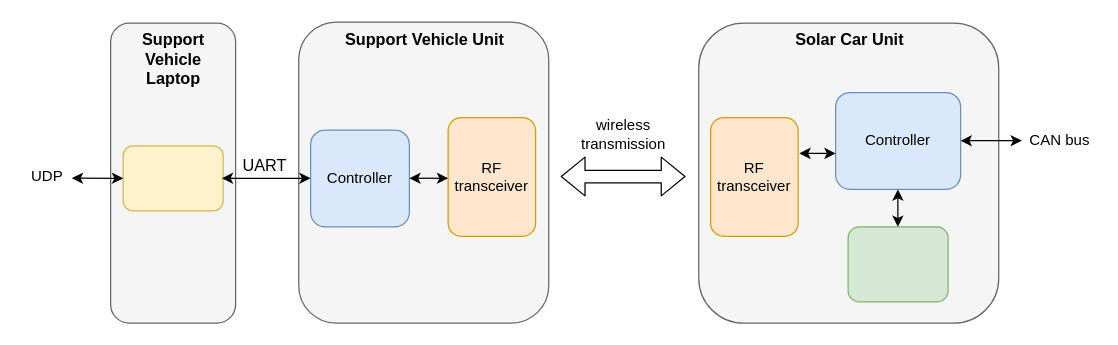
This 1118x345 diagram has some shape labels left out. The centre of each missing label's shape, as x and y in pixels:
External Memory (black box): pixel 897 264
GUI: pixel 172 178
